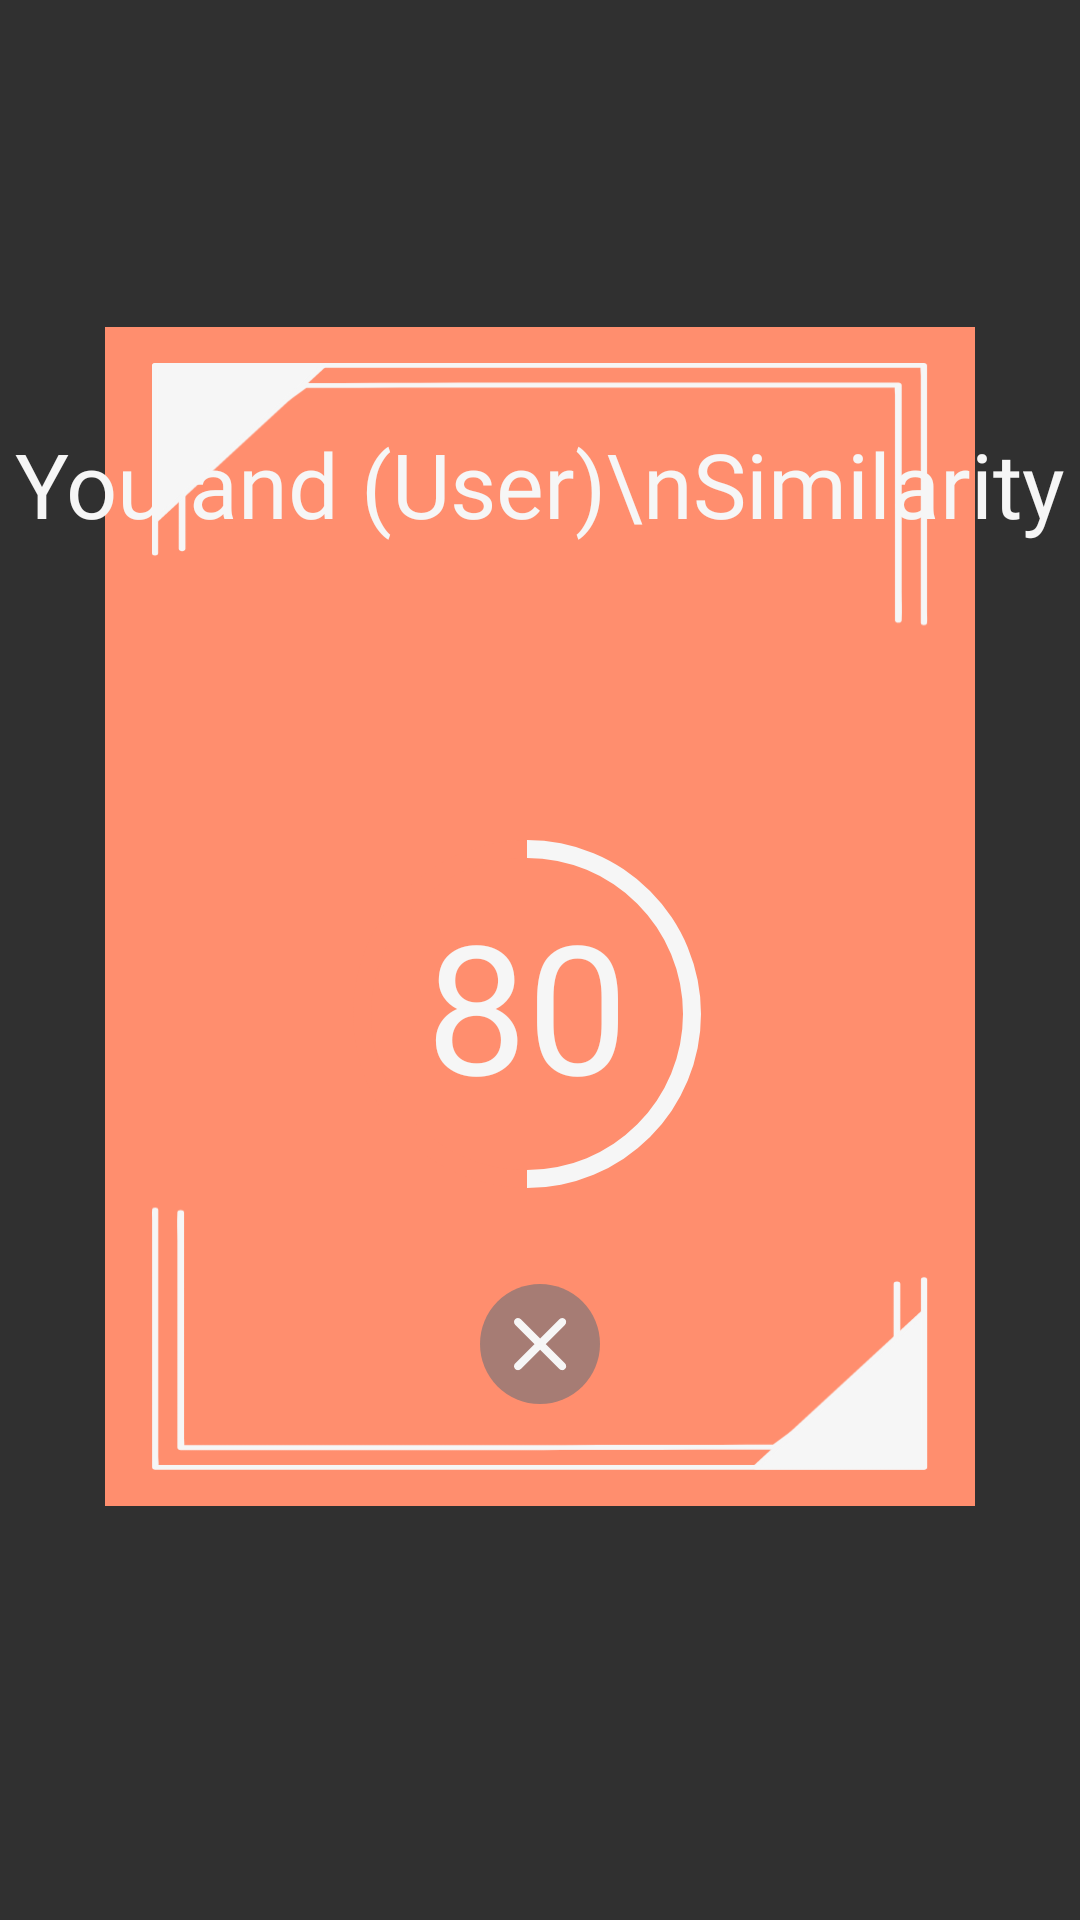

Screen size 1080 x 1920. Icon name, then its box in pixels as (left=x1, top=y1, right=x2, bottom=y2):
game result close: (left=480, top=1284, right=600, bottom=1404)
